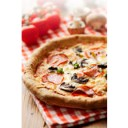pepperonipizza: (22, 34, 109, 107)
